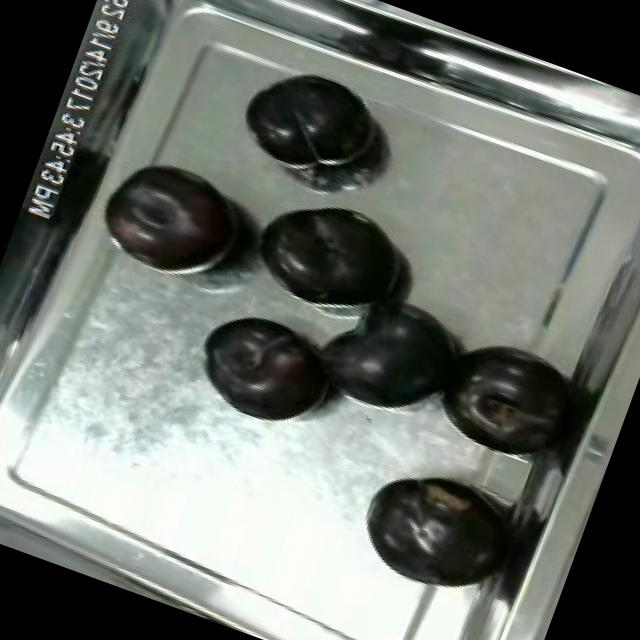Fruit: (294, 262, 481, 442), (234, 175, 422, 336), (342, 450, 524, 616), (176, 292, 354, 448), (88, 143, 262, 297), (222, 51, 392, 201), (422, 322, 585, 474)
